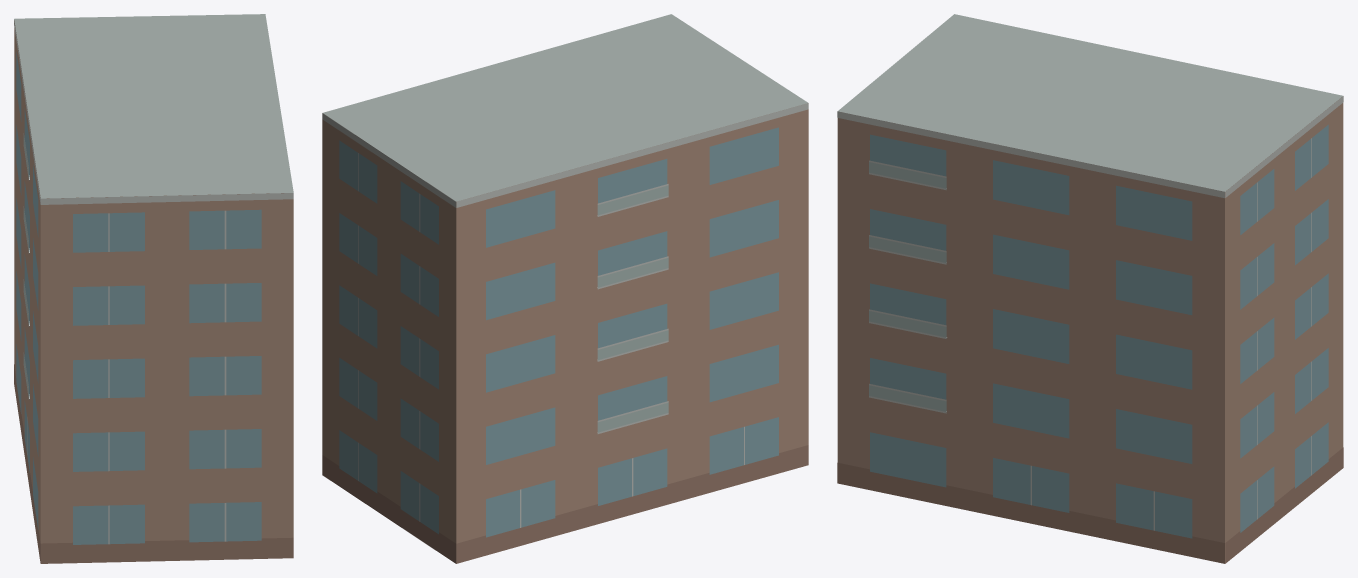
Rendered from survey-upis-32681654.glb.
3 views of the same model, side by side, from view 1: azimuth 30°, elevation 25°; view 2: azimuth 150°, elevation 25°; view 3: azimuth 270°, elevation 25° (orthographic). The views are drawn at different scales.
Parts seen in each view (by area): view 1: survey-upis-32681654.tmp; view 2: survey-upis-32681654.tmp; view 3: survey-upis-32681654.tmp.
Part boxes in pixels (x1,y1,x2,y2): survey-upis-32681654.tmp: [14, 14, 293, 563]; survey-upis-32681654.tmp: [322, 14, 808, 563]; survey-upis-32681654.tmp: [837, 14, 1343, 563].
Bounding box in the file's own units: 14.25 × 13.9 × 17.14.
